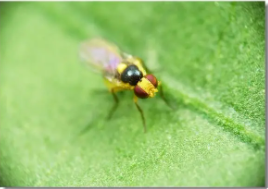liriomyza: (77, 36, 163, 131)
